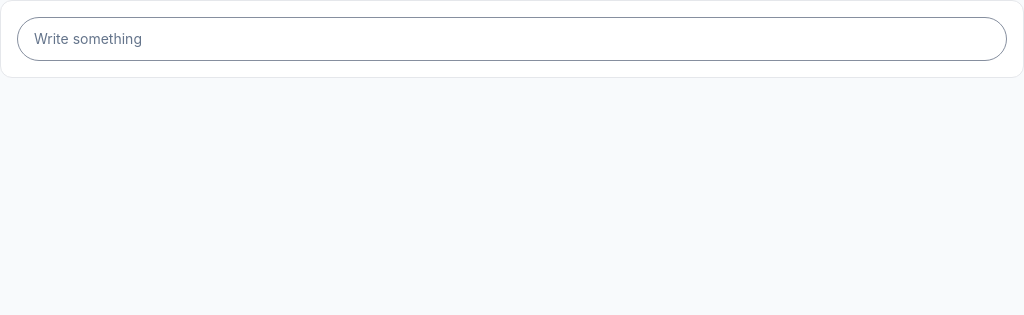
PostComposer mentions › marks a mention that matches no member
Press Enter in the button "Write something", box [17,17,1007,61]
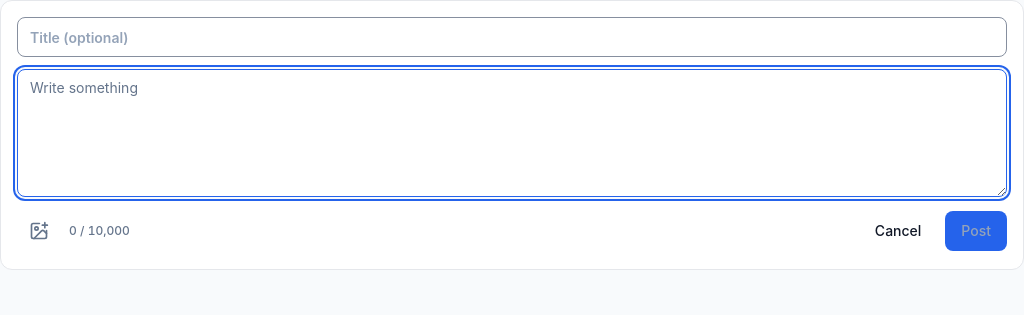
Type "Hi @ana and @nobody" into the text box labelled "Write something" at {"x": 512, "y": 133}, box [17,69,1007,197]
Wait 500 ms
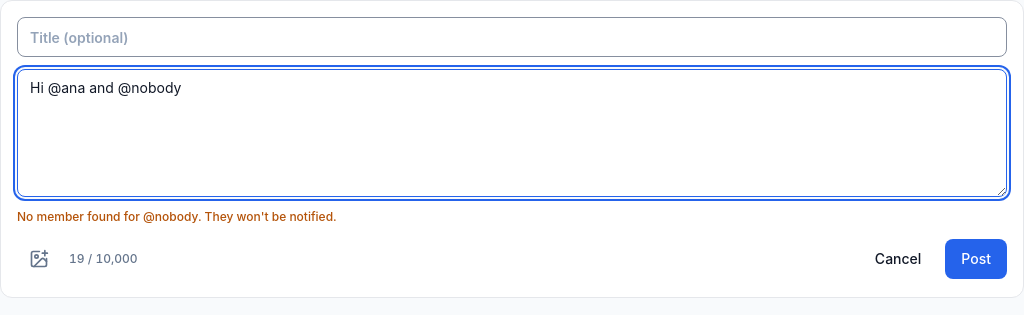
Now the text "No member found for @nobody. They won't be notified." is shown, box [17,209,337,224]
